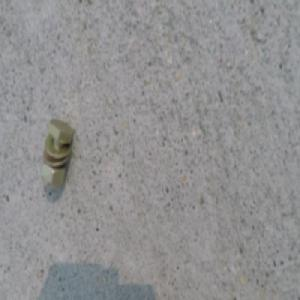BoltNutSet: (46, 114, 79, 186)
